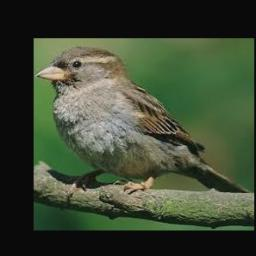Sparrow: (35, 47, 250, 197)
